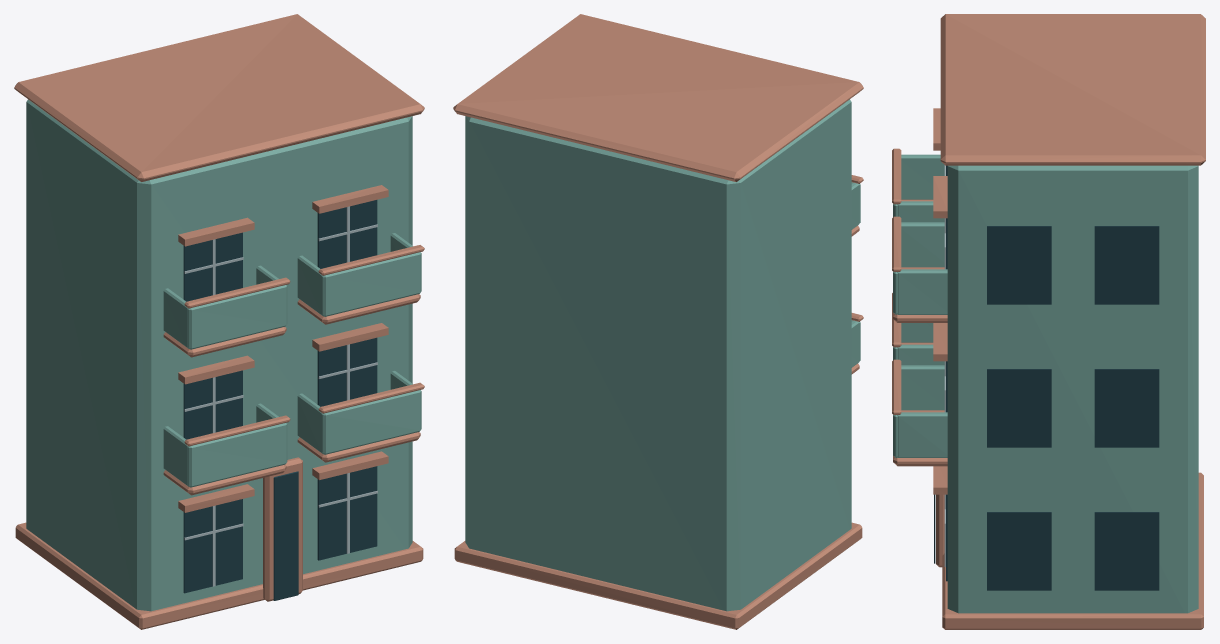
Rendered from city_balcony_apartment.glb.
3 renders of one model, left to right at view 1: azimuth 30°, elevation 25°; view 2: azimuth 150°, elevation 25°; view 3: azimuth 270°, elevation 25°, orthographic. The views are drawn at different scales.
Parts seen in each view (by area): view 1: city_balcony_apartment; view 2: city_balcony_apartment; view 3: city_balcony_apartment.
Boxes of the visible parts, x1,y1,x2,y2 form: city_balcony_apartment: [14, 14, 424, 629]; city_balcony_apartment: [453, 14, 863, 629]; city_balcony_apartment: [892, 14, 1205, 629].
Bounding box in the file's own units: 4.8 × 7.3 × 4.38.
